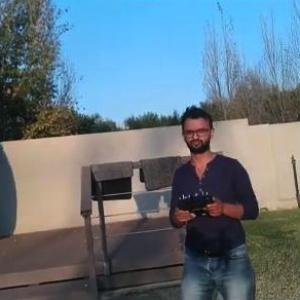follow: (169, 99, 271, 299)
